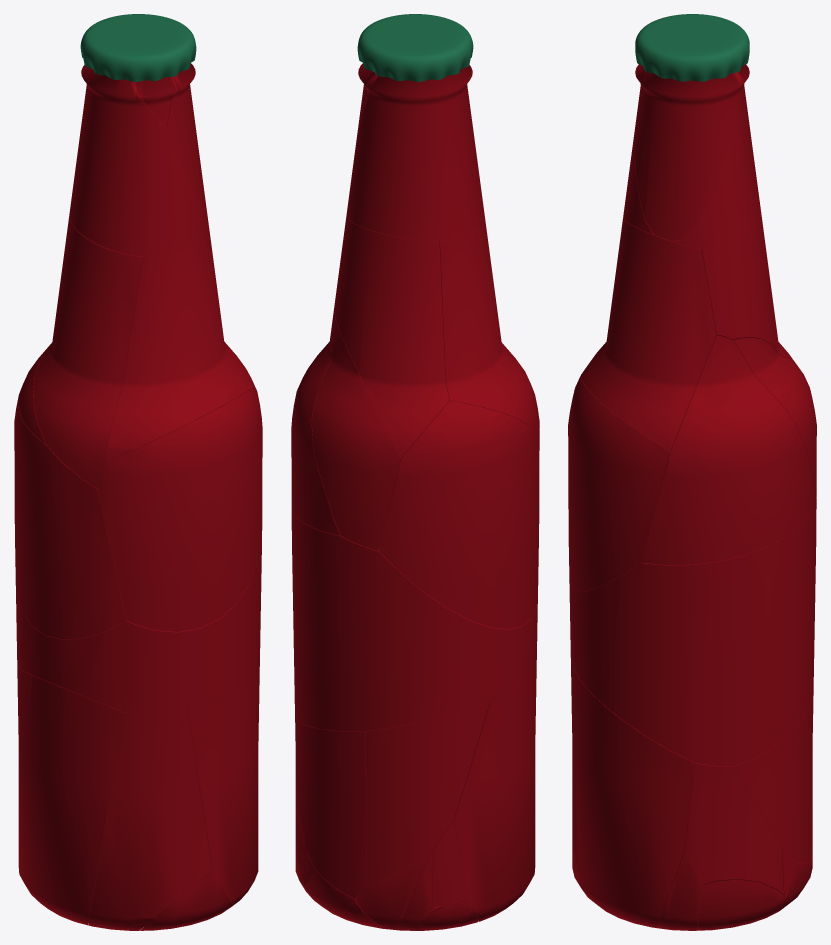
File: bottle.fbx
The picture shows the model from 3 angles, left to right: view 1: azimuth 30°, elevation 25°; view 2: azimuth 150°, elevation 25°; view 3: azimuth 270°, elevation 25°; orthographic projection.
Visible parts, largest first — view 1: p4, p30, p21, p13, p14, p27, p6, p15, p17, p1, p29, p26 (+2 smaller); view 2: p14, p6, p15, p11, p30, p19, p25, p27, p16, p1, p28, p9 (+5 smaller); view 3: p14, p28, p17, p13, p4, p29, p2, p16, p11, p15, p1, p25 (+3 smaller).
Boxes of the visible parts, x1=… form: p4: x1=98, y1=385, x2=262, y2=631; p30: x1=18, y1=669, x2=125, y2=925; p21: x1=88, y1=706, x2=212, y2=930; p13: x1=104, y1=210, x2=254, y2=462; p14: x1=15, y1=536, x2=261, y2=712; p27: x1=33, y1=214, x2=143, y2=488; p6: x1=14, y1=401, x2=126, y2=639; p15: x1=69, y1=65, x2=206, y2=256; p17: x1=186, y1=683, x2=259, y2=905; p1: x1=80, y1=14, x2=196, y2=81; p29: x1=166, y1=63, x2=206, y2=212; p26: x1=140, y1=870, x2=232, y2=930; p14: x1=291, y1=509, x2=537, y2=731; p6: x1=379, y1=428, x2=539, y2=629; p15: x1=346, y1=65, x2=485, y2=241; p11: x1=334, y1=215, x2=449, y2=456; p30: x1=454, y1=649, x2=536, y2=921; p19: x1=366, y1=702, x2=489, y2=886; p25: x1=311, y1=312, x2=401, y2=550; p27: x1=439, y1=221, x2=539, y2=429; p16: x1=295, y1=717, x2=366, y2=899; p1: x1=357, y1=14, x2=473, y2=81; p28: x1=291, y1=303, x2=340, y2=535; p9: x1=401, y1=401, x2=530, y2=458; p14: x1=569, y1=497, x2=816, y2=766; p28: x1=641, y1=335, x2=814, y2=565; p17: x1=571, y1=659, x2=694, y2=927; p13: x1=581, y1=218, x2=716, y2=450; p4: x1=568, y1=375, x2=671, y2=591; p29: x1=635, y1=72, x2=743, y2=241; p2: x1=684, y1=763, x2=783, y2=894; p16: x1=731, y1=688, x2=813, y2=863; p11: x1=701, y1=209, x2=798, y2=367; p15: x1=623, y1=64, x2=760, y2=249; p1: x1=635, y1=14, x2=749, y2=81; p25: x1=733, y1=337, x2=816, y2=499.
Bounding box in the file's own units: 121 × 458 × 121.
